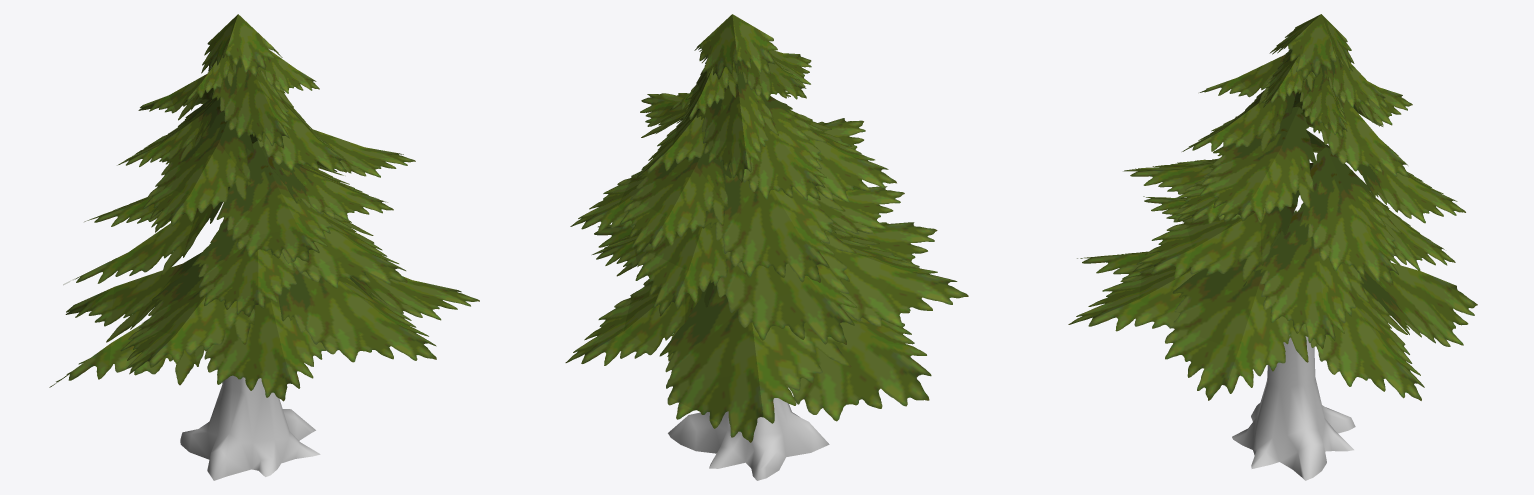
Rendered from shumu01.FBX.
3 renders of one model, left to right at view 1: azimuth 30°, elevation 25°; view 2: azimuth 150°, elevation 25°; view 3: azimuth 270°, elevation 25°, orthographic. The views are drawn at different scales.
Visible parts, largest first — view 1: stump_02 (6); view 2: stump_02 (6); view 3: stump_02 (6).
Boxes of the visible parts, x1,y1,x2,y2 form: stump_02 (6): (49,14,479,480); stump_02 (6): (565,14,968,480); stump_02 (6): (1068,14,1477,480).
Bounding box in the file's own units: 7.15 × 7.19 × 7.31.
